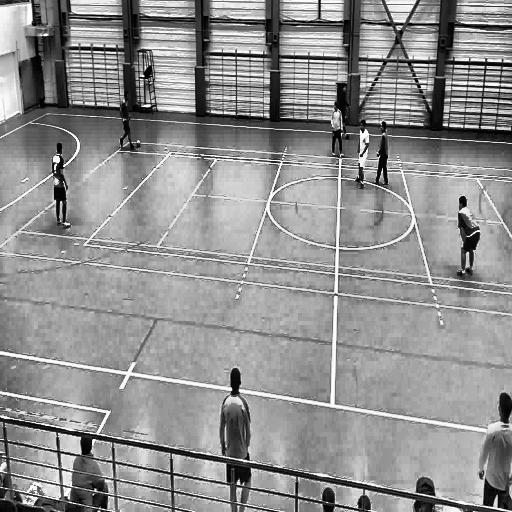ball: (134, 137, 142, 153)
player: (218, 365, 254, 512), (478, 380, 512, 509), (66, 431, 110, 512), (454, 195, 481, 283), (52, 138, 70, 232), (372, 120, 390, 188), (353, 119, 370, 190), (118, 90, 134, 154), (330, 100, 344, 162), (338, 80, 352, 141)
